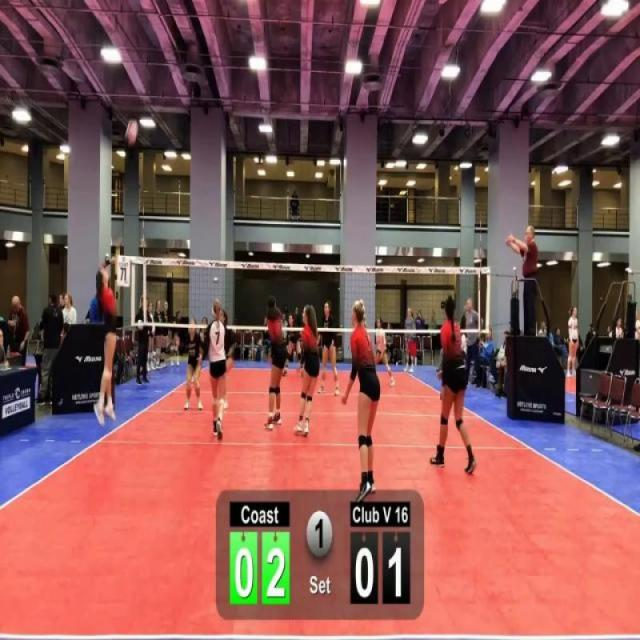volleyball: (124, 117, 140, 148)
